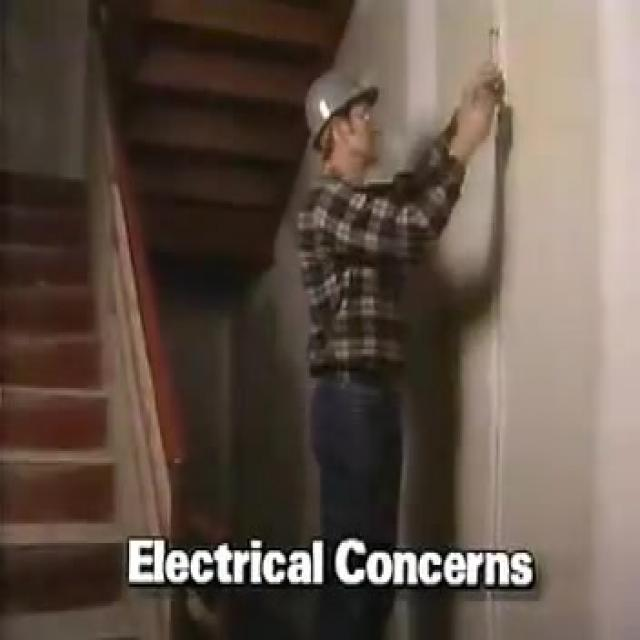safety_helmet: (287, 53, 394, 152)
